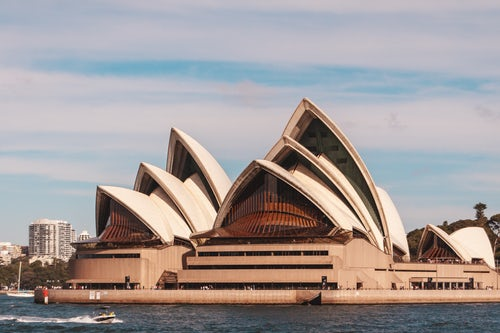opera house: (57, 92, 499, 307)
